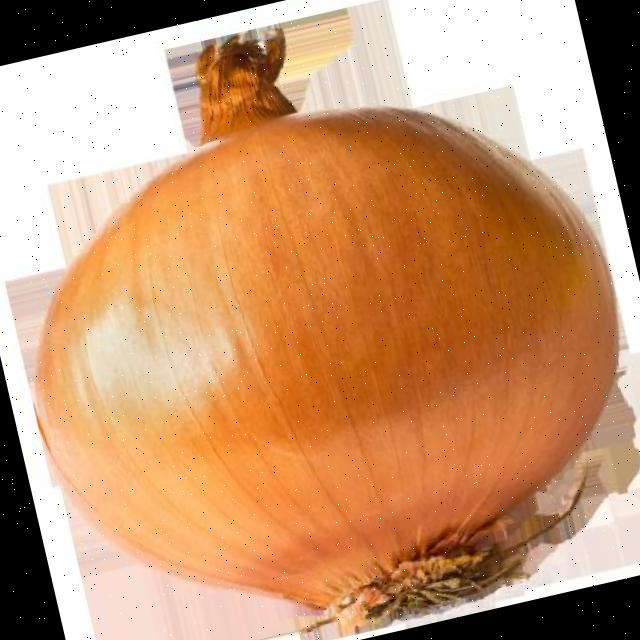Onion: (36, 28, 619, 636)
